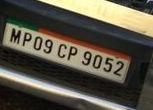0: (32, 34, 43, 49), (91, 53, 102, 68)
2: (113, 60, 123, 76)
5: (102, 56, 113, 72)
9: (81, 49, 92, 66), (43, 38, 53, 53)
C: (56, 42, 66, 58)
M: (8, 26, 21, 44)
P: (66, 44, 77, 60), (21, 30, 31, 46)
